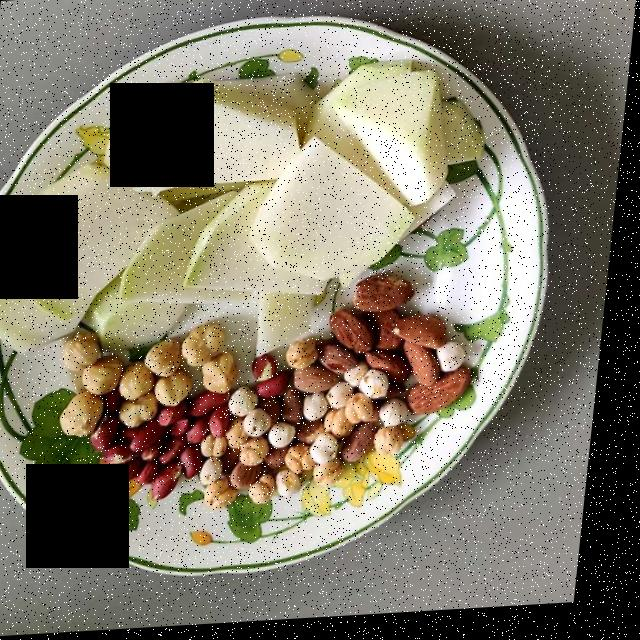kolhrabi: (0, 73, 491, 361)
mixed-nuts: (60, 281, 478, 517)
